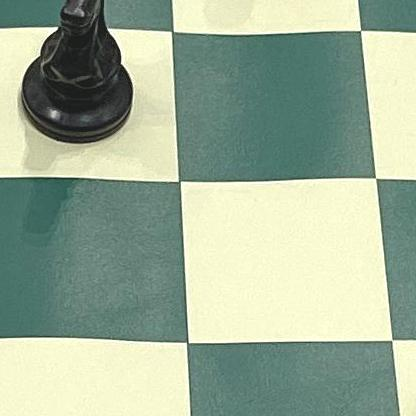black-knight: (17, 0, 144, 146)
